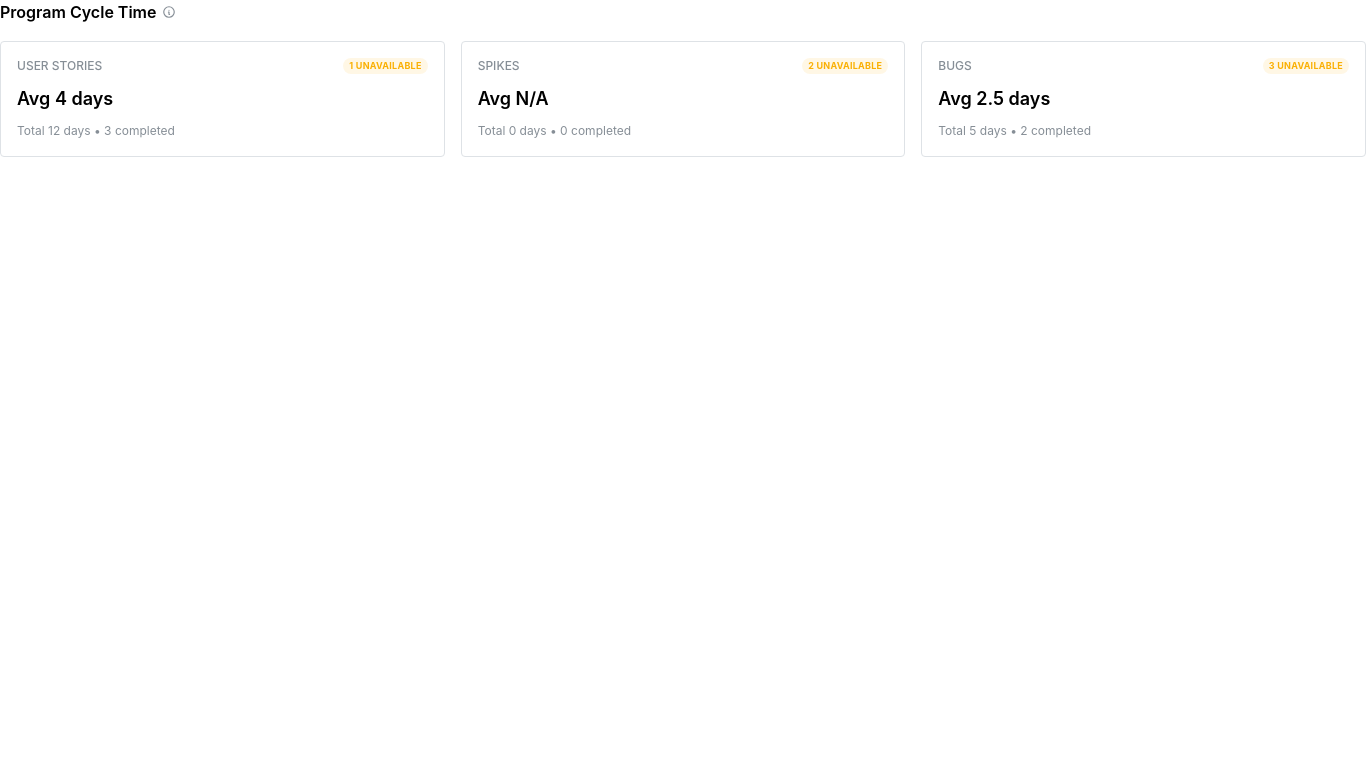
it: CycleTimeBreakdown › opens unavailable item modal and renders linked ADO rows
Click the button with aria-label "Open unavailable User Stories cycle-time items" at {"x": 386, "y": 66}, box [343,58,428,74]
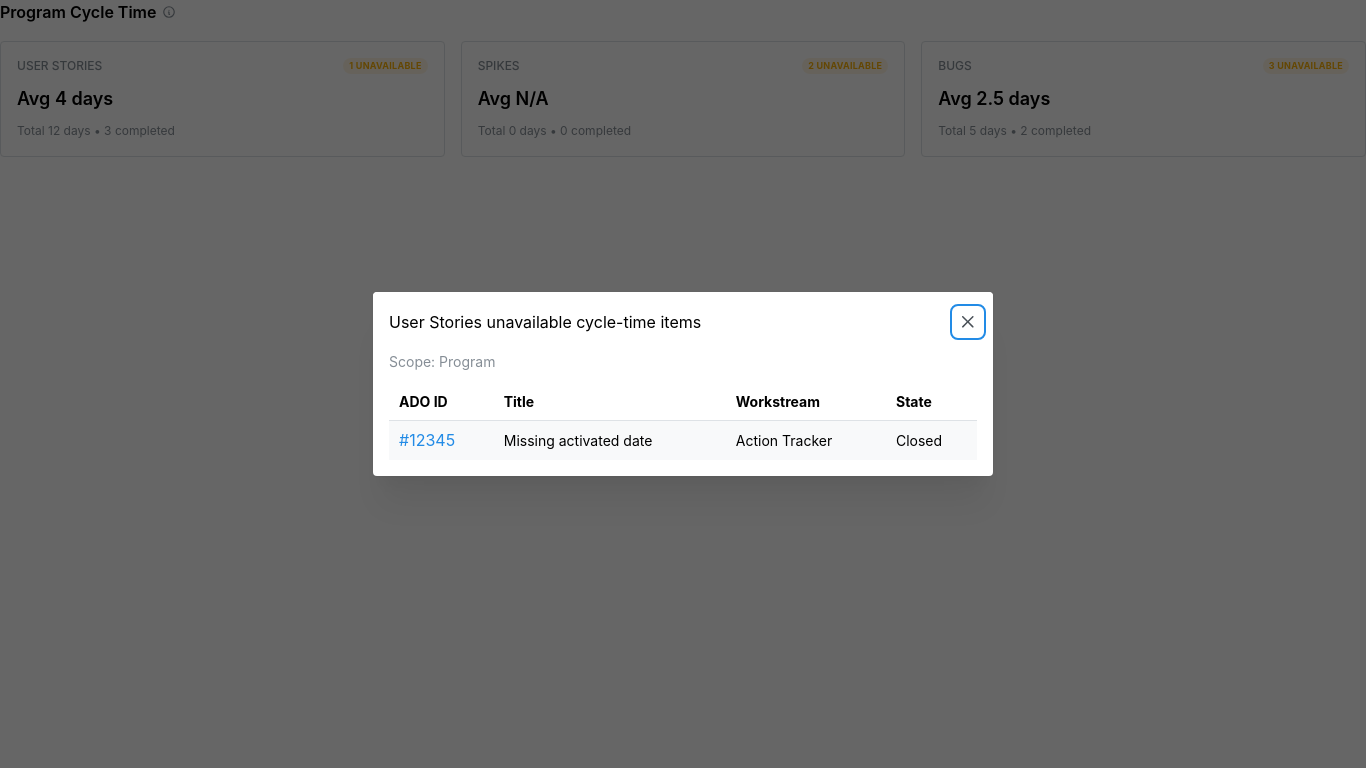
Check: the text "Missing activated date" is shown, box [494,421,726,460]
Check: the text "Scope: Program" is shown, box [389,353,496,370]
